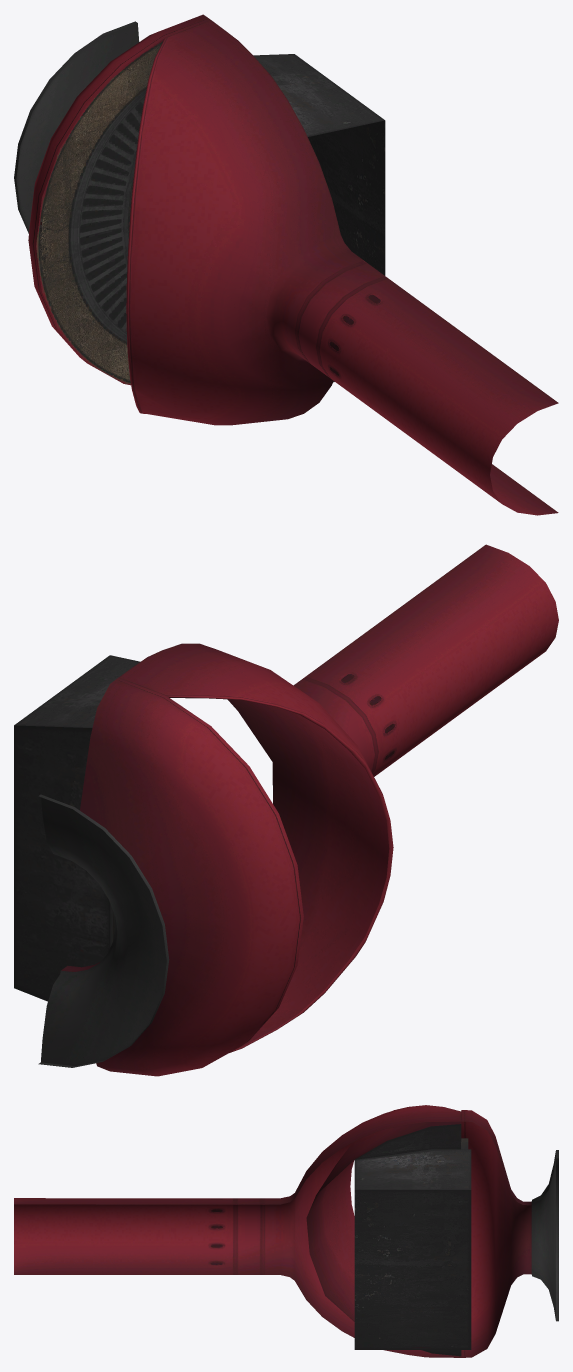
The model's file is nt_2020_fireplace_01_LOD0.obj.
3 views of the same model, one above another, from view 1: azimuth 30°, elevation 25°; view 2: azimuth 150°, elevation 25°; view 3: azimuth 270°, elevation 25° (orthographic). The views are drawn at different scales.
Parts seen in each view (by area): view 1: mtl_nt_2020_fireplace_01; view 2: mtl_nt_2020_fireplace_01; view 3: mtl_nt_2020_fireplace_01.
Boxes of the visible parts, x1,y1,x2,y2 form: mtl_nt_2020_fireplace_01: [14, 14, 558, 515]; mtl_nt_2020_fireplace_01: [14, 544, 558, 1076]; mtl_nt_2020_fireplace_01: [14, 1105, 558, 1357].
Size of the model in its own units: 121 by 159 by 332.
